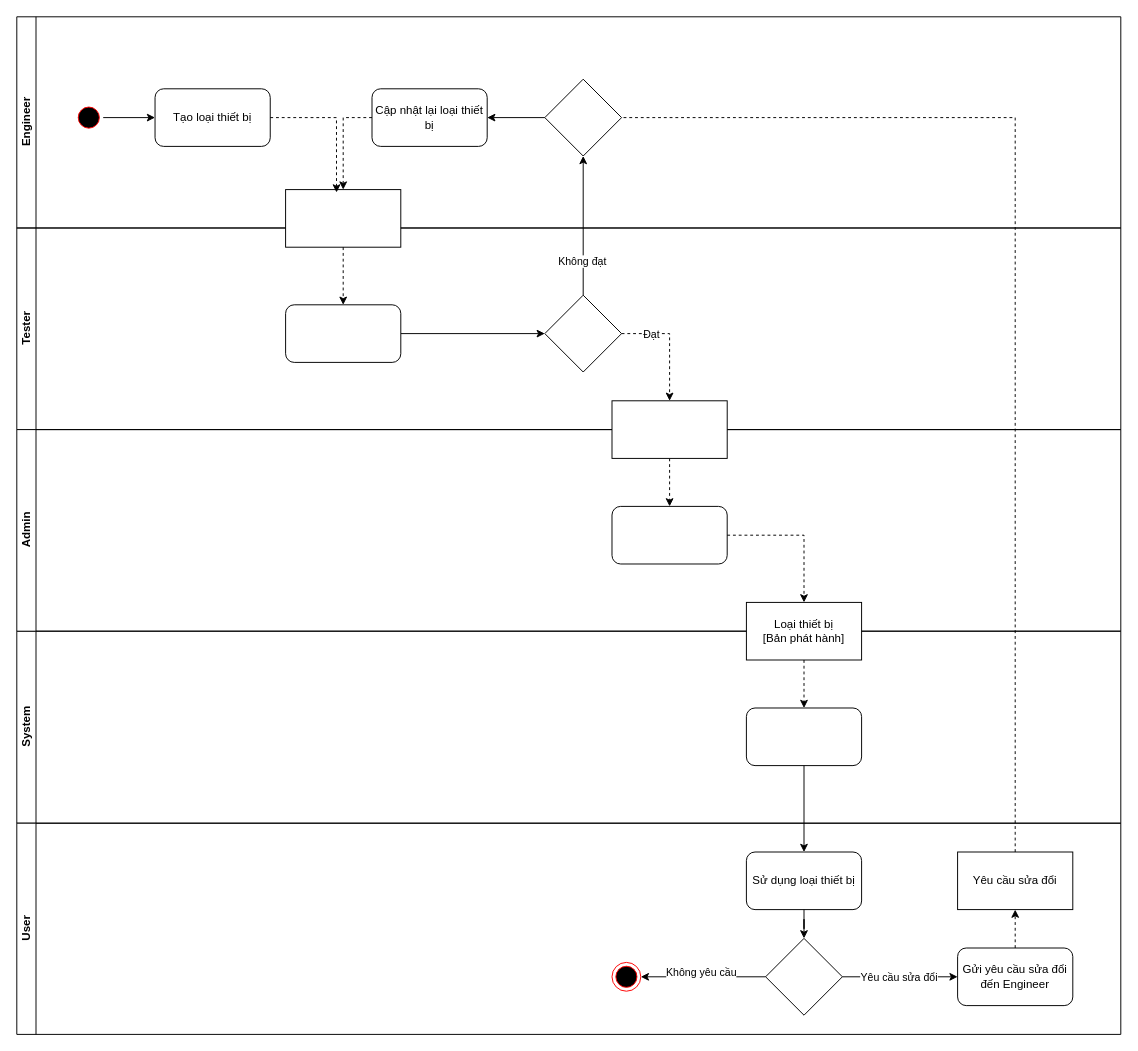
Some shapes in this 1138 by 1051 pixel diagram are drawn without their labels. Here are the shapes that lost their labels. From the top down, the centre of each, then its label:
point 343,218: Loại thiết bị [bản mẫu]
point 343,333: Kiểm tra bản mẫu
point 669,429: Loại thiết bị [đã được kiểm tra]
point 669,534: Chấp nhận và phát hành
point 803,736: Lưu trữ và thông báo đến người dùng
